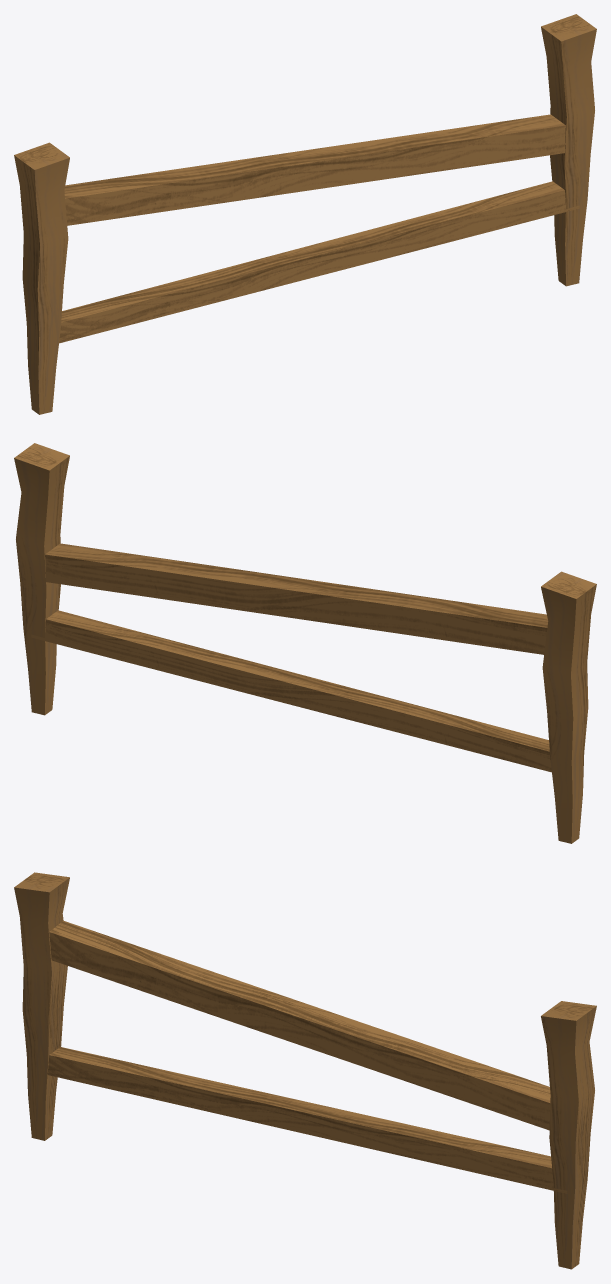
The model's file is Fence_Tipo1.fbx.
3 renders of one model, top to bottom at view 1: azimuth 30°, elevation 25°; view 2: azimuth 150°, elevation 25°; view 3: azimuth 330°, elevation 25°, orthographic.
Visible parts, largest first — view 1: pCube17, pCube18, pCube15, pCube19; view 2: pCube17, pCube18, pCube15, pCube19; view 3: pCube17, pCube18, pCube19, pCube15.
Part boxes in pixels (x1=…): pCube17: x1=64, y1=114, x2=565, y2=225; pCube18: x1=59, y1=181, x2=579, y2=343; pCube15: x1=14, y1=142, x2=69, y2=414; pCube19: x1=541, y1=14, x2=596, y2=286; pCube17: x1=45, y1=543, x2=548, y2=654; pCube18: x1=31, y1=610, x2=551, y2=772; pCube15: x1=541, y1=571, x2=596, y2=843; pCube19: x1=14, y1=443, x2=69, y2=715; pCube17: x1=49, y1=920, x2=550, y2=1130; pCube18: x1=47, y1=1047, x2=567, y2=1193; pCube19: x1=541, y1=1001, x2=596, y2=1269; pCube15: x1=14, y1=872, x2=69, y2=1140.
Bounding box in the file's own units: 21.51 × 9.36 × 1.36.
